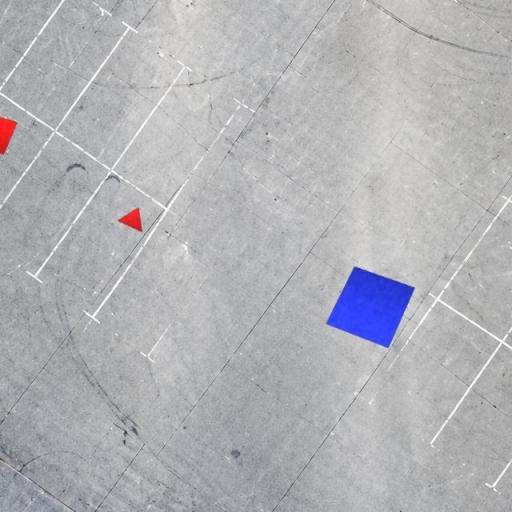BLUE_SQUARE: (325, 266, 416, 348)
RED_SQUARE: (0, 112, 18, 155)
